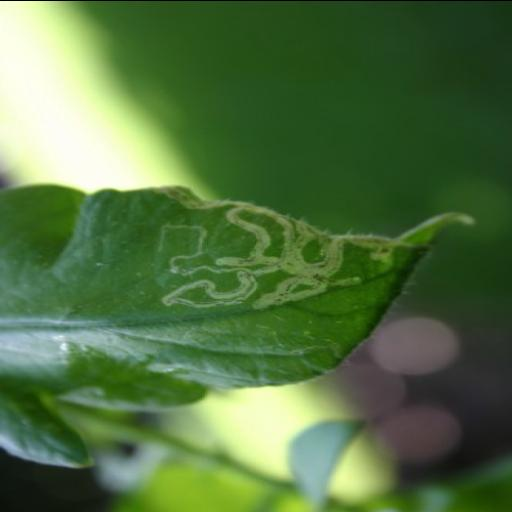Leaf Miner: (0, 184, 478, 466)
